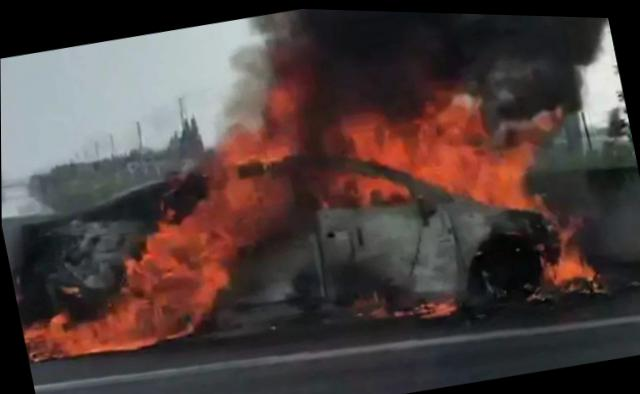fire: (0, 34, 610, 393)
